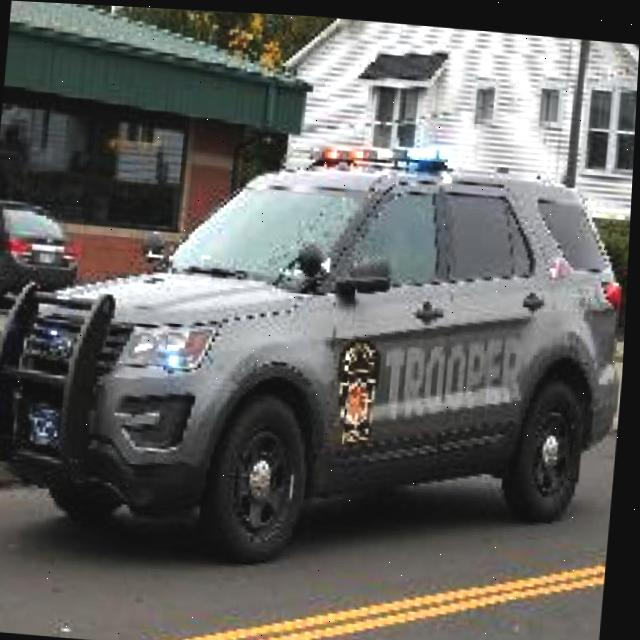emergency: (0, 109, 636, 588)
